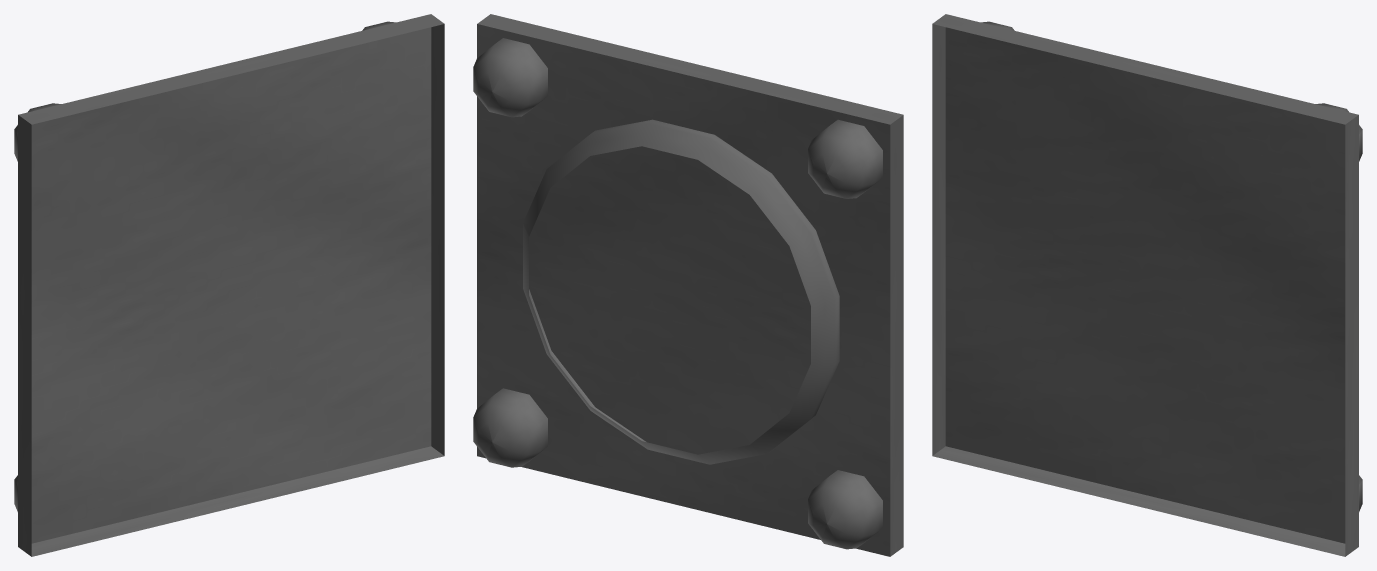
The model's file is polebase_large_square.obj.
3 views of the same model, side by side, from view 1: azimuth 30°, elevation 25°; view 2: azimuth 150°, elevation 25°; view 3: azimuth 330°, elevation 25° (orthographic).
Visible parts, largest first — view 1: polebase_large_square; view 2: polebase_large_square; view 3: polebase_large_square.
Part boxes in pixels (x1,y1,x2,y2): polebase_large_square: [14, 14, 444, 556]; polebase_large_square: [473, 14, 903, 556]; polebase_large_square: [932, 14, 1362, 556].
Bounding box in the file's own units: 1.09 × 1.09 × 0.1712.
